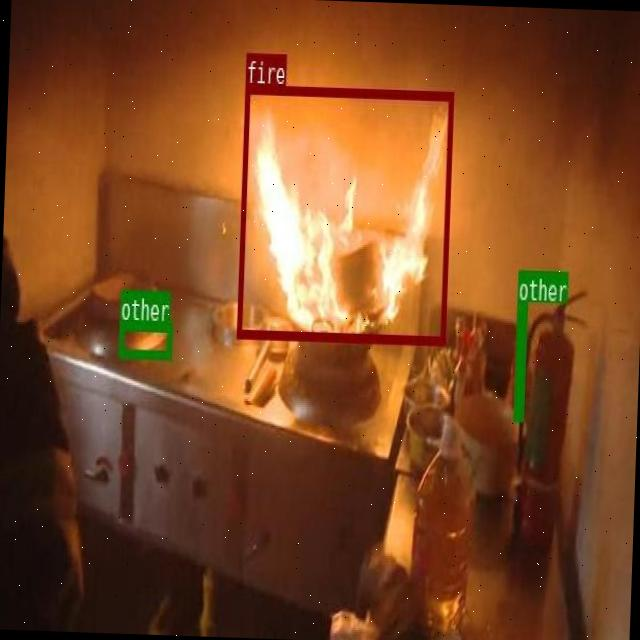fire: (235, 83, 452, 344)
